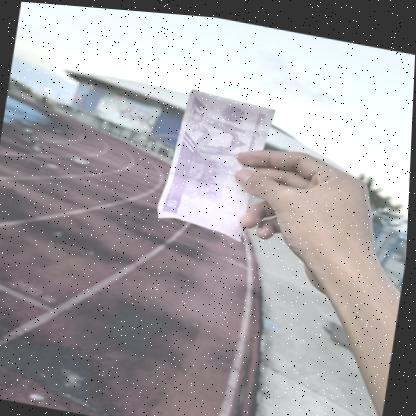one_hundred-back-vef: (155, 80, 277, 241)
